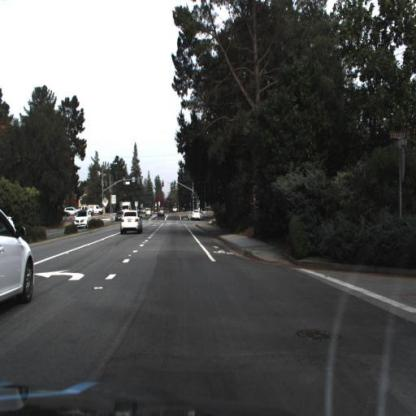car: (1, 218, 36, 331), (120, 210, 144, 234), (74, 209, 93, 232), (189, 205, 204, 226), (190, 207, 202, 223), (143, 206, 153, 219), (158, 207, 167, 220)
trafficLight-Green: (192, 190, 197, 205)
